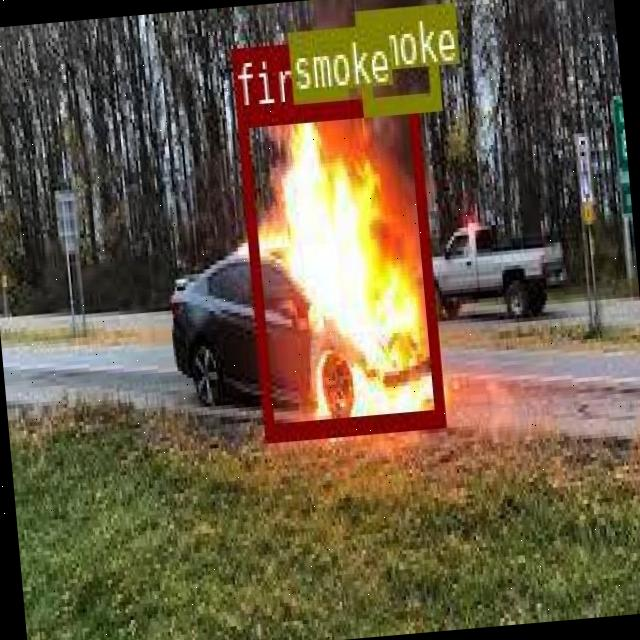fire: (236, 91, 444, 439)
smoke: (352, 1, 440, 110), (286, 24, 346, 98)
